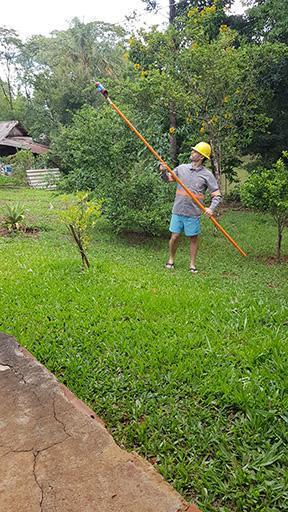helmet: (189, 141, 211, 168)
